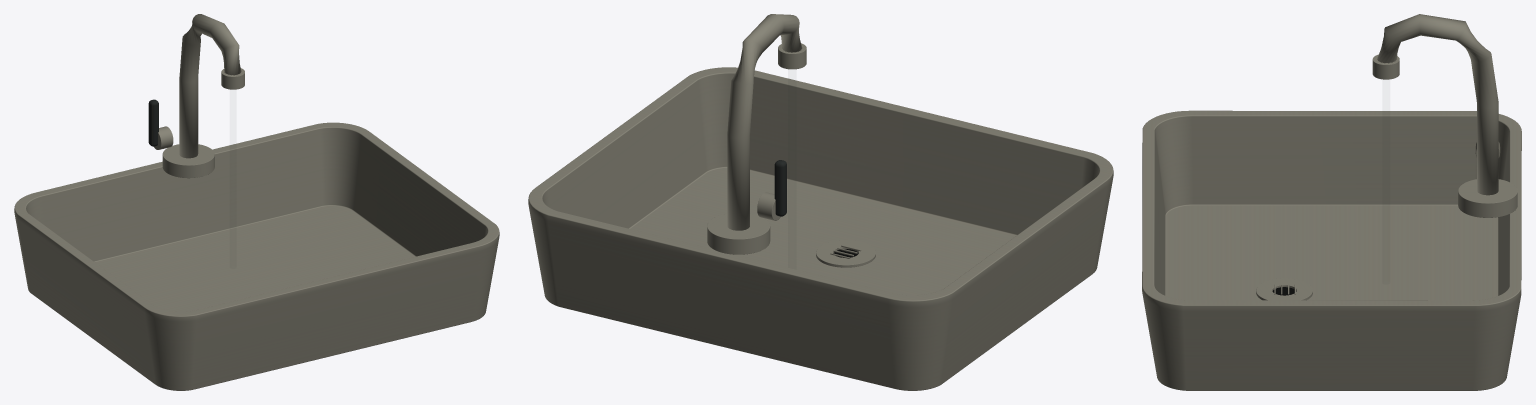
File: C05_DrainBasin.fbx
3 views of the same model, side by side, from view 1: azimuth 30°, elevation 25°; view 2: azimuth 150°, elevation 25°; view 3: azimuth 270°, elevation 25° (orthographic). The views are drawn at different scales.
Parts seen in each view (by area): view 1: Body_Mesh, TapBody_Mesh, ValveHandle_Mesh; view 2: Body_Mesh, TapBody_Mesh, ValveHandle_Mesh; view 3: Body_Mesh, TapBody_Mesh.
Part boxes in pixels (bbox=[...]): Body_Mesh: bbox=[14, 122, 499, 390]; TapBody_Mesh: bbox=[162, 14, 244, 178]; ValveHandle_Mesh: bbox=[148, 99, 173, 149]; Body_Mesh: bbox=[528, 67, 1113, 390]; TapBody_Mesh: bbox=[707, 14, 806, 254]; ValveHandle_Mesh: bbox=[757, 160, 786, 220]; Body_Mesh: bbox=[1142, 110, 1521, 390]; TapBody_Mesh: bbox=[1372, 14, 1517, 217].
Size of the model in its own units: 0.34 by 0.278 by 0.28.
